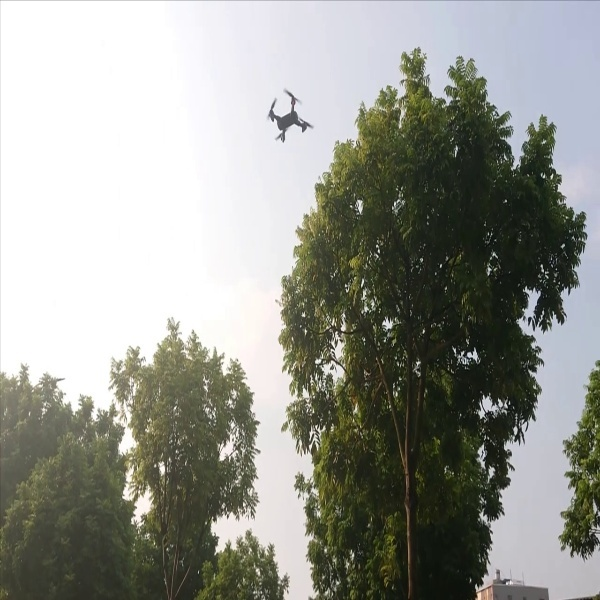drone: (260, 85, 319, 149)
